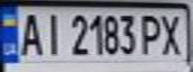1: (84, 11, 106, 56)
2: (66, 11, 90, 56)
3: (118, 11, 139, 55)
8: (103, 11, 121, 55)
A: (15, 9, 45, 57)
I: (39, 10, 66, 56)
P: (136, 11, 166, 56)
X: (157, 11, 190, 56)
